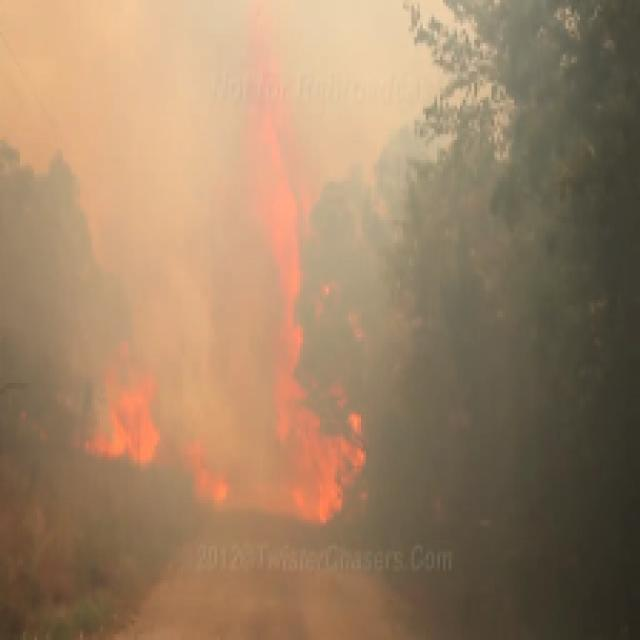Fire: (42, 159, 412, 552)
Smoke: (0, 0, 540, 283)
